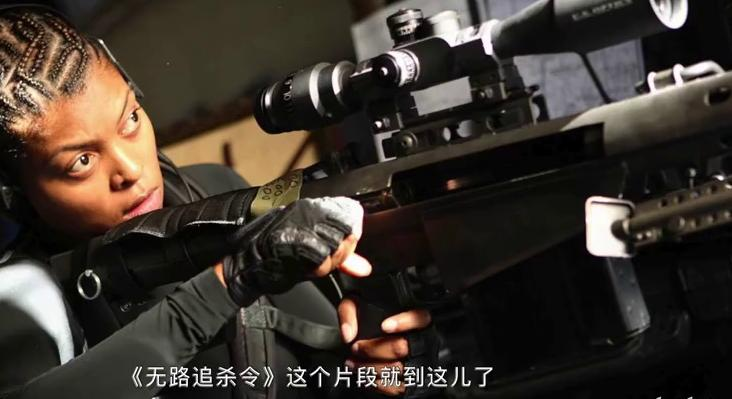gun: (1, 0, 732, 399)
